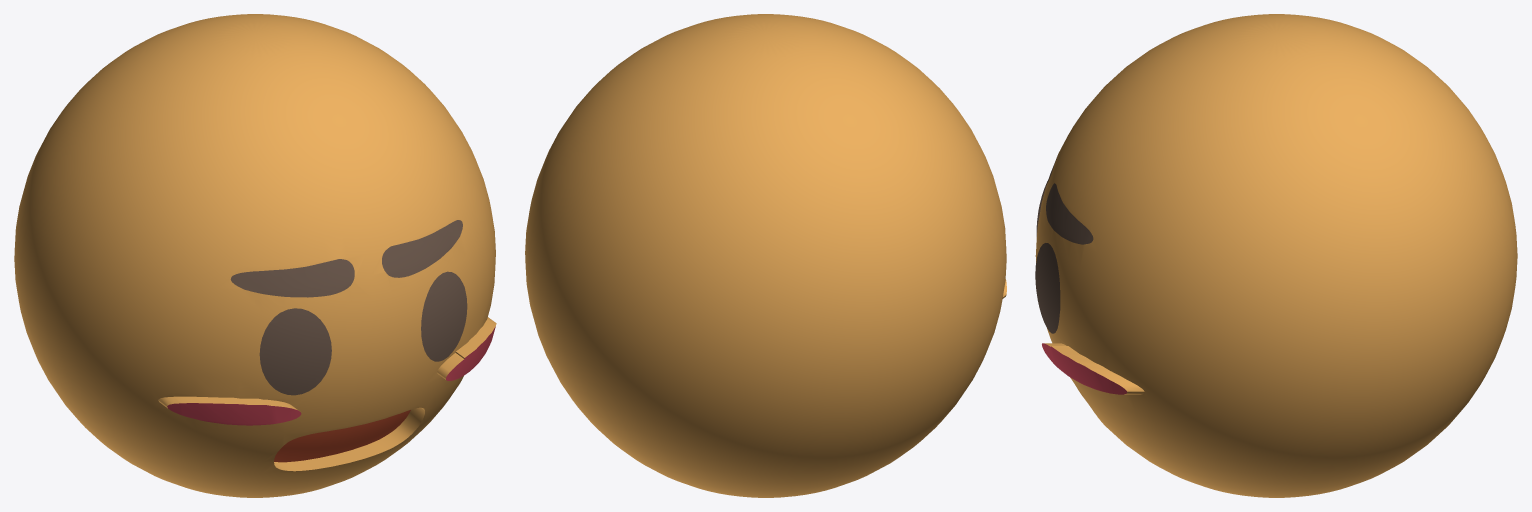
Rendered from embarassed.fbx.
The picture shows the model from 3 angles, left to right: view 1: azimuth 30°, elevation 25°; view 2: azimuth 150°, elevation 25°; view 3: azimuth 270°, elevation 25°; orthographic projection.
Parts seen in each view (by area): view 1: Sphere.024; view 2: Sphere.024; view 3: Sphere.024.
Part boxes in pixels (x1,y1,x2,y2): Sphere.024: (14, 14, 496, 497); Sphere.024: (525, 14, 1006, 497); Sphere.024: (1035, 14, 1517, 497).
Size of the model in its own units: 197 by 200 by 198.
